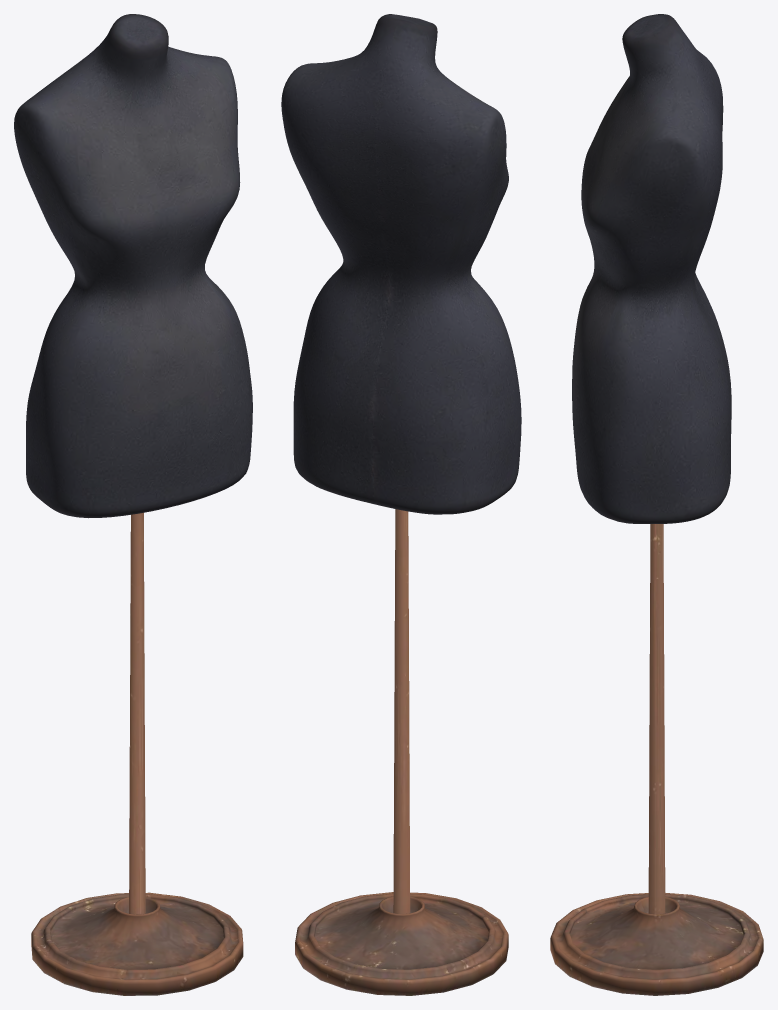
The model's file is mannequin-transformed.glb.
3 renders of one model, left to right at view 1: azimuth 30°, elevation 25°; view 2: azimuth 150°, elevation 25°; view 3: azimuth 270°, elevation 25°, orthographic.
Parts seen in each view (by area): view 1: Avatar_Man2_0; view 2: Avatar_Man2_0; view 3: Avatar_Man2_0.
Boxes of the visible parts, x1=… form: Avatar_Man2_0: x1=14, y1=14, x2=252, y2=995; Avatar_Man2_0: x1=281, y1=14, x2=521, y2=995; Avatar_Man2_0: x1=550, y1=14, x2=763, y2=995.
Size of the model in its own units: 0.3204 by 1.39 by 0.2886.
1 material, 1 textured.
